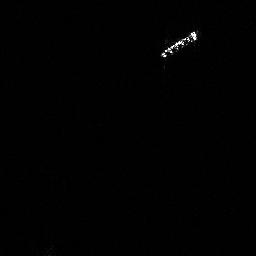ship: (156, 27, 202, 60)
